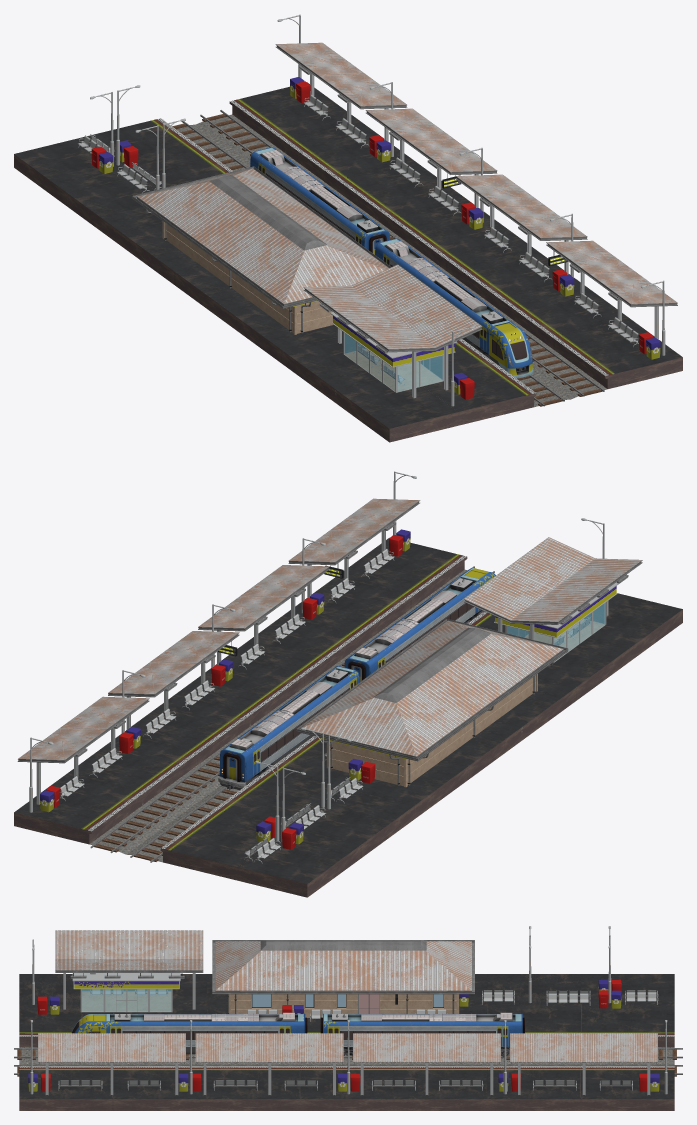
Rendered from train_ride.glb.
3 views of the same model, one above another, from view 1: azimuth 30°, elevation 25°; view 2: azimuth 150°, elevation 25°; view 3: azimuth 270°, elevation 25° (orthographic). The views are drawn at different scales.
Visible parts, largest first — view 1: Platform top.001, Platform top.002, Station roof, Waiting shed roof, Platform Bottom, Platform Bottom.001, Waiting shed post.001, Waiting shed post.004, Waiting shed post.002, Waiting shed post.003, Track rocks.001, Main station (+14 smaller); view 2: Platform top.002, Platform top.001, Station roof, Waiting shed roof, Platform Bottom, Platform Bottom.001, Waiting shed post.004, Main station, Waiting shed post.001, Waiting shed post.003, Waiting shed post.002, Track rocks.001 (+14 smaller); view 3: Platform top.001, Platform top.002, Station roof, Platform Bottom.001, Waiting shed roof, Waiting shed post.001, Waiting shed post.003, Waiting shed post.002, Waiting shed post.004, Main station, Track rocks, Station roof.001 (+25 smaller).
Part boxes in pixels (bbox=[...]): Platform top.001: bbox=[230, 82, 682, 375]; Platform top.002: bbox=[14, 118, 535, 428]; Station roof: bbox=[137, 168, 388, 303]; Waiting shed roof: bbox=[303, 264, 482, 352]; Platform Bottom: bbox=[14, 154, 536, 442]; Platform Bottom.001: bbox=[229, 101, 682, 388]; Waiting shed post.001: bbox=[546, 240, 677, 339]; Waiting shed post.004: bbox=[275, 42, 407, 141]; Waiting shed post.002: bbox=[455, 174, 587, 274]; Waiting shed post.003: bbox=[365, 108, 497, 207]; Track rocks.001: bbox=[195, 114, 607, 399]; Main station: bbox=[166, 224, 333, 333]; Platform top.002: bbox=[161, 593, 682, 883]; Platform top.001: bbox=[14, 537, 466, 831]; Station roof: bbox=[302, 621, 562, 756]; Waiting shed roof: bbox=[464, 537, 642, 624]; Platform Bottom: bbox=[160, 609, 682, 897]; Platform Bottom.001: bbox=[14, 557, 467, 844]; Waiting shed post.004: bbox=[17, 696, 149, 804]; Main station: bbox=[330, 675, 535, 786]; Waiting shed post.001: bbox=[288, 498, 420, 598]; Waiting shed post.003: bbox=[108, 631, 239, 729]; Waiting shed post.002: bbox=[198, 565, 329, 664]; Track rocks.001: bbox=[89, 569, 466, 854]; Platform top.001: bbox=[19, 1066, 674, 1098]; Platform top.002: bbox=[19, 974, 674, 1036]; Station roof: bbox=[215, 941, 471, 990]; Platform Bottom.001: bbox=[19, 1099, 674, 1110]; Waiting shed roof: bbox=[55, 930, 203, 972]; Waiting shed post.001: bbox=[38, 1033, 185, 1095]; Waiting shed post.003: bbox=[353, 1033, 500, 1094]; Waiting shed post.002: bbox=[195, 1033, 343, 1095]; Waiting shed post.004: bbox=[510, 1033, 657, 1095]; Main station: bbox=[231, 994, 456, 1017]; Track rocks: bbox=[19, 1047, 674, 1064]; Station roof.001: bbox=[212, 940, 474, 994].
Size of the model in its own units: 38.55 by 10.97 by 85.58.
Materials: 4 (4 with a texture image).
